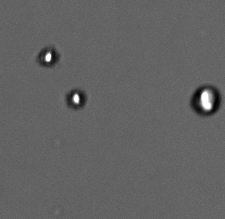Living Cell: (188, 82, 222, 118), (64, 86, 89, 109), (37, 45, 59, 66)
